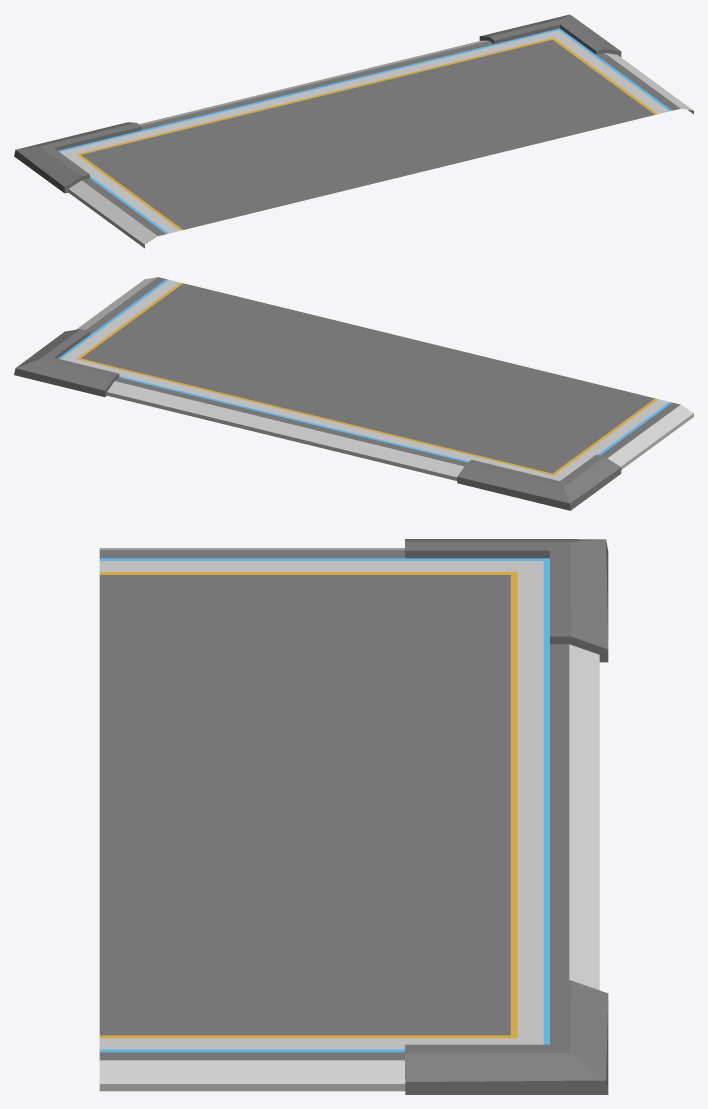
The model's file is GenericBase.fbx.
3 renders of one model, top to bottom at view 1: azimuth 30°, elevation 25°; view 2: azimuth 150°, elevation 25°; view 3: azimuth 270°, elevation 25°, orthographic. The views are drawn at different scales.
Visible parts, largest first — view 1: GenericBase; view 2: GenericBase; view 3: GenericBase.
Part boxes in pixels (x1,y1,x2,y2): GenericBase: (14,14,693,248); GenericBase: (14,277,693,510); GenericBase: (99,539,608,1094).
Bounding box in the file's own units: 1124 × 25.08 × 445.
